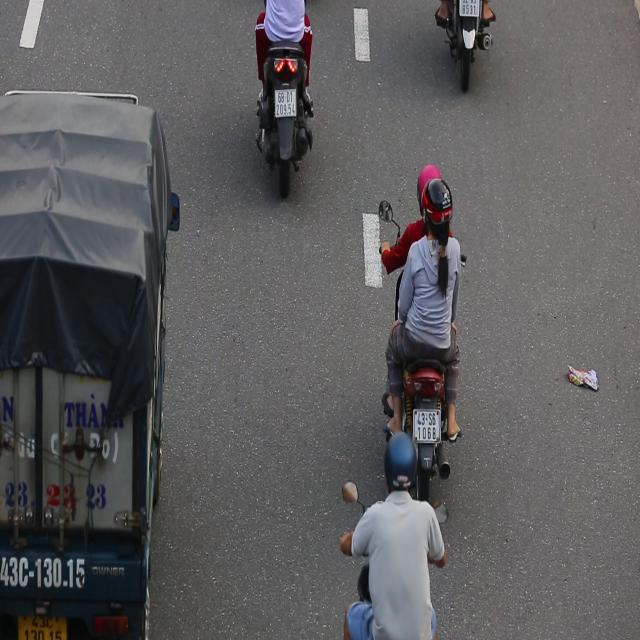motorbike: (376, 145, 476, 487)
